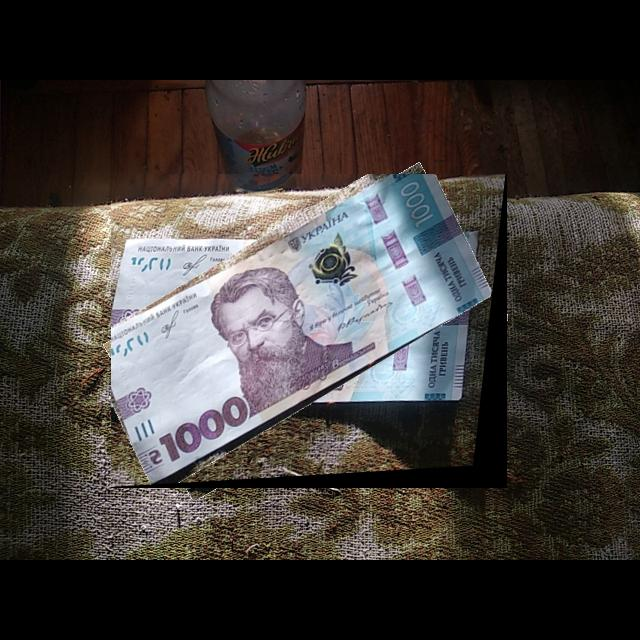1000uah: (111, 174, 496, 486)
